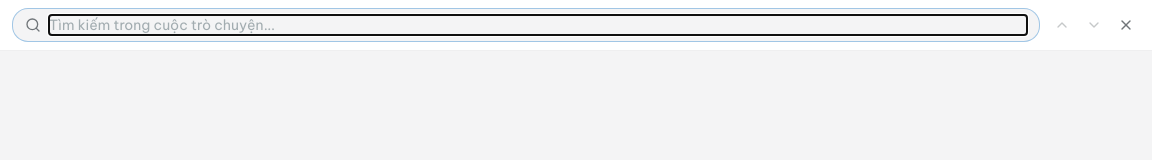
Test: InChatSearchBar Component Tests › clears query and resets state when clear button is clicked
The width and height of the screenshot is (1152, 160).
Type "chào" into the field with test id "in-chat-search-input". click: (538, 25)
box: x1=49 y1=15 x2=1027 y2=35
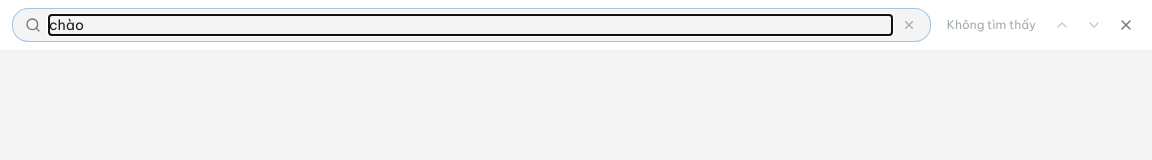
Expected: the button with test id "in-chat-search-clear" is shown
Click the button with test id "in-chat-search-clear". click: (909, 25)
box: x1=900 y1=16 x2=918 y2=34
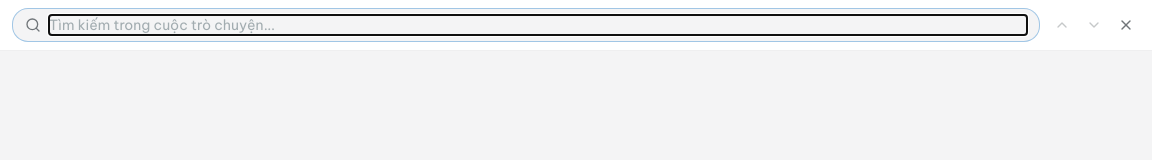
Expected: the field with test id "in-chat-search-input" is empty, x1=49 y1=15 x2=1027 y2=35
Expected: the element with test id "in-chat-search-counter" is gone
